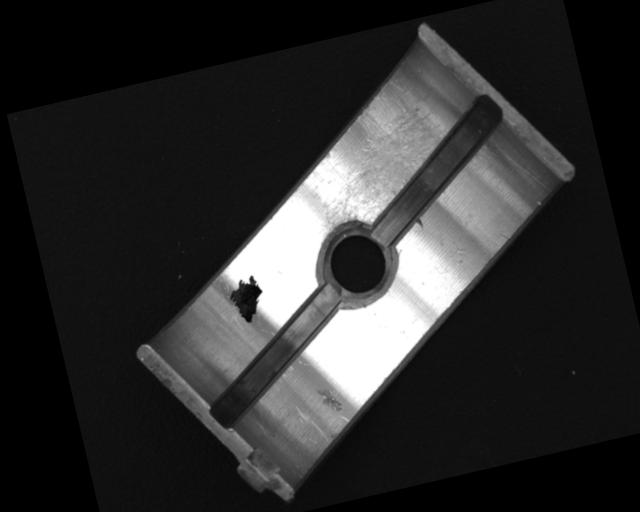blot: (224, 273, 269, 328)
bruise: (312, 381, 344, 416), (413, 216, 425, 230)
gap: (346, 94, 524, 248), (189, 286, 358, 429)
hole: (310, 219, 401, 309)
scratch: (295, 84, 461, 241)
